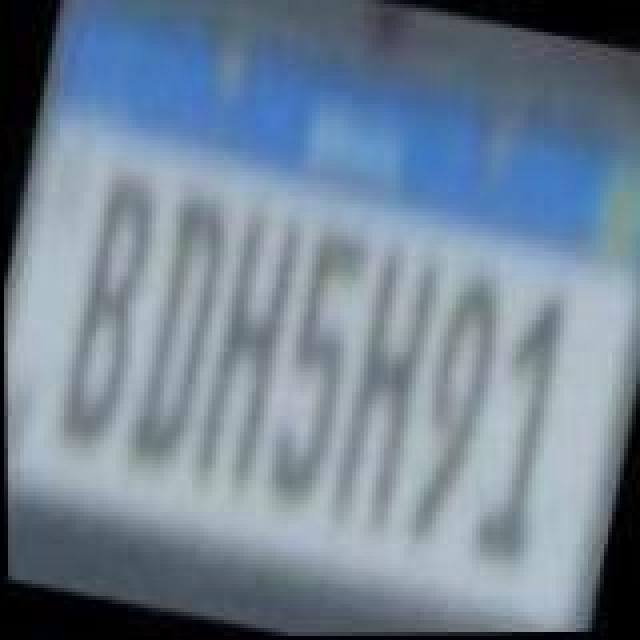1: (466, 286, 582, 574)
5: (256, 220, 376, 508)
9: (392, 270, 508, 554)
B: (48, 170, 168, 450)
D: (120, 194, 240, 478)
H: (186, 200, 310, 496), (324, 242, 448, 538)
